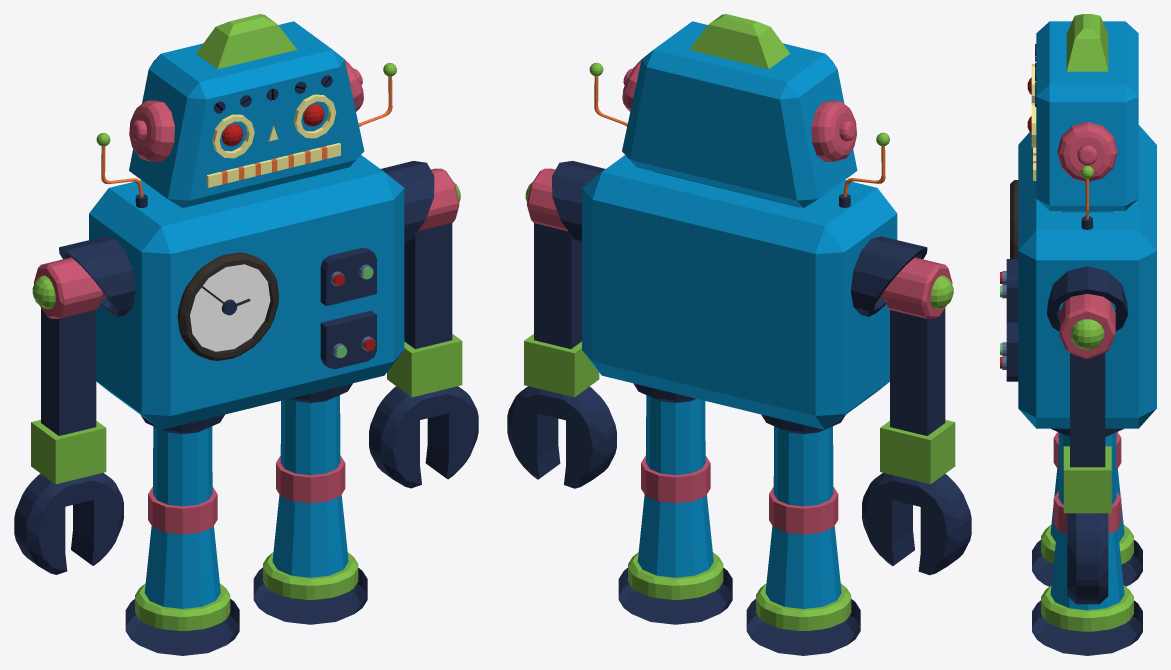
File: robot.fbx
3 renders of one model, left to right at view 1: azimuth 30°, elevation 25°; view 2: azimuth 150°, elevation 25°; view 3: azimuth 270°, elevation 25°, orthographic. The views are drawn at different scales.
Parts seen in each view (by area): view 1: Cube; view 2: Cube; view 3: Cube.
Boxes of the visible parts, x1,y1,x2,y2 form: Cube: (14, 14, 478, 655); Cube: (507, 14, 971, 655); Cube: (1000, 14, 1156, 655).
Bounding box in the file's own units: 1266 × 1604 × 390.
Materials: 1 (1 with a texture image).
